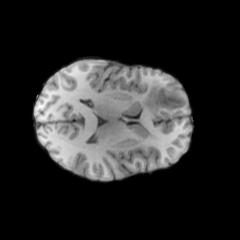glioma: (145, 84, 185, 117)
